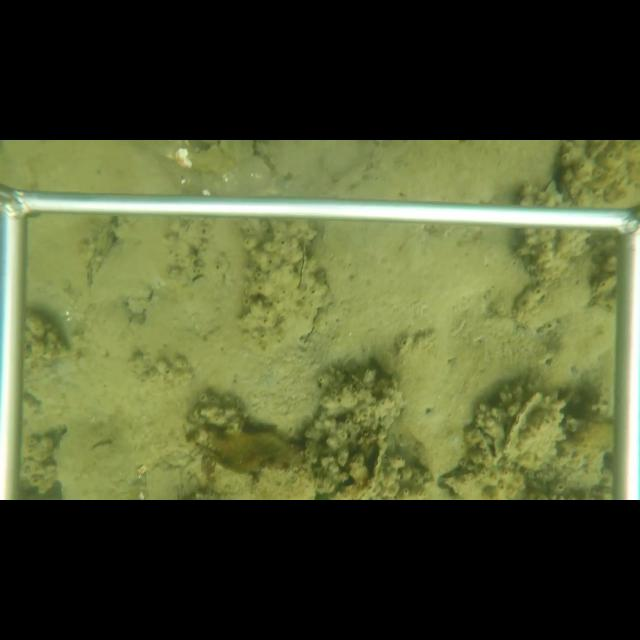Oyster-Closed: (498, 393, 570, 471)
